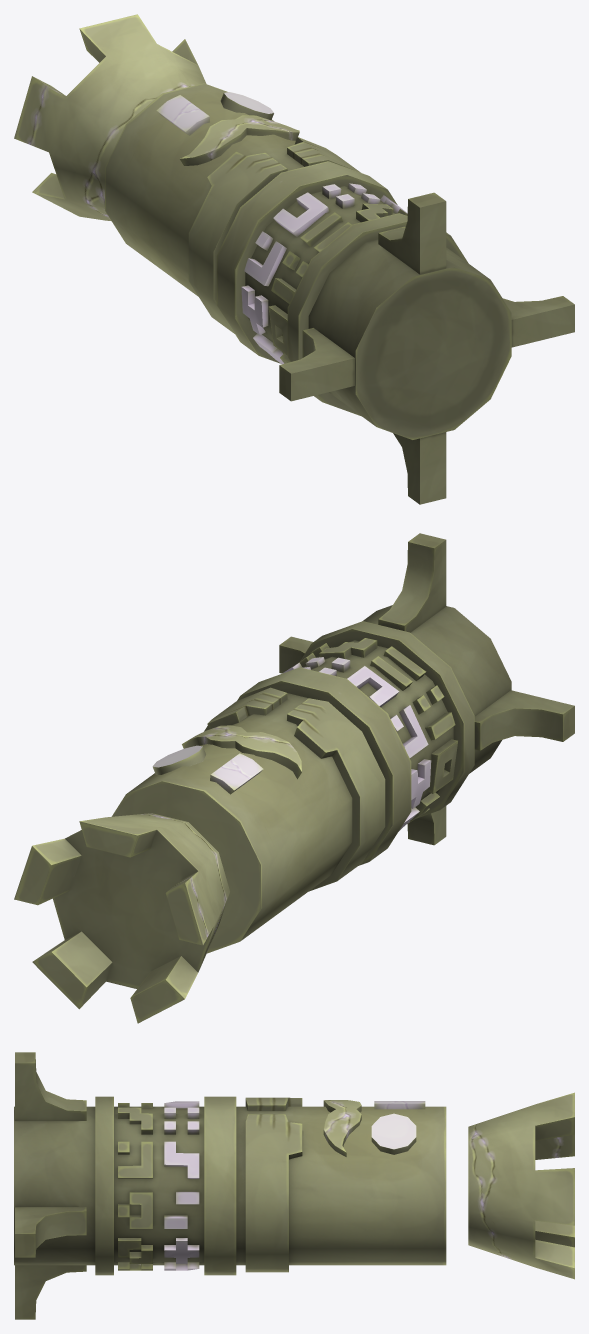
The model's file is Totem_Earth.FBX.
3 renders of one model, top to bottom at view 1: azimuth 30°, elevation 25°; view 2: azimuth 150°, elevation 25°; view 3: azimuth 270°, elevation 25°, orthographic. The views are drawn at different scales.
Visible parts, largest first — view 1: Totem_03; view 2: Totem_03; view 3: Totem_03.
Part boxes in pixels (<box>): Totem_03: <box>14,14,574,504</box>; Totem_03: <box>14,533,574,1023</box>; Totem_03: <box>14,1052,574,1319</box>.
Bounding box in the file's own units: 8.11 × 16.09 × 8.11.
